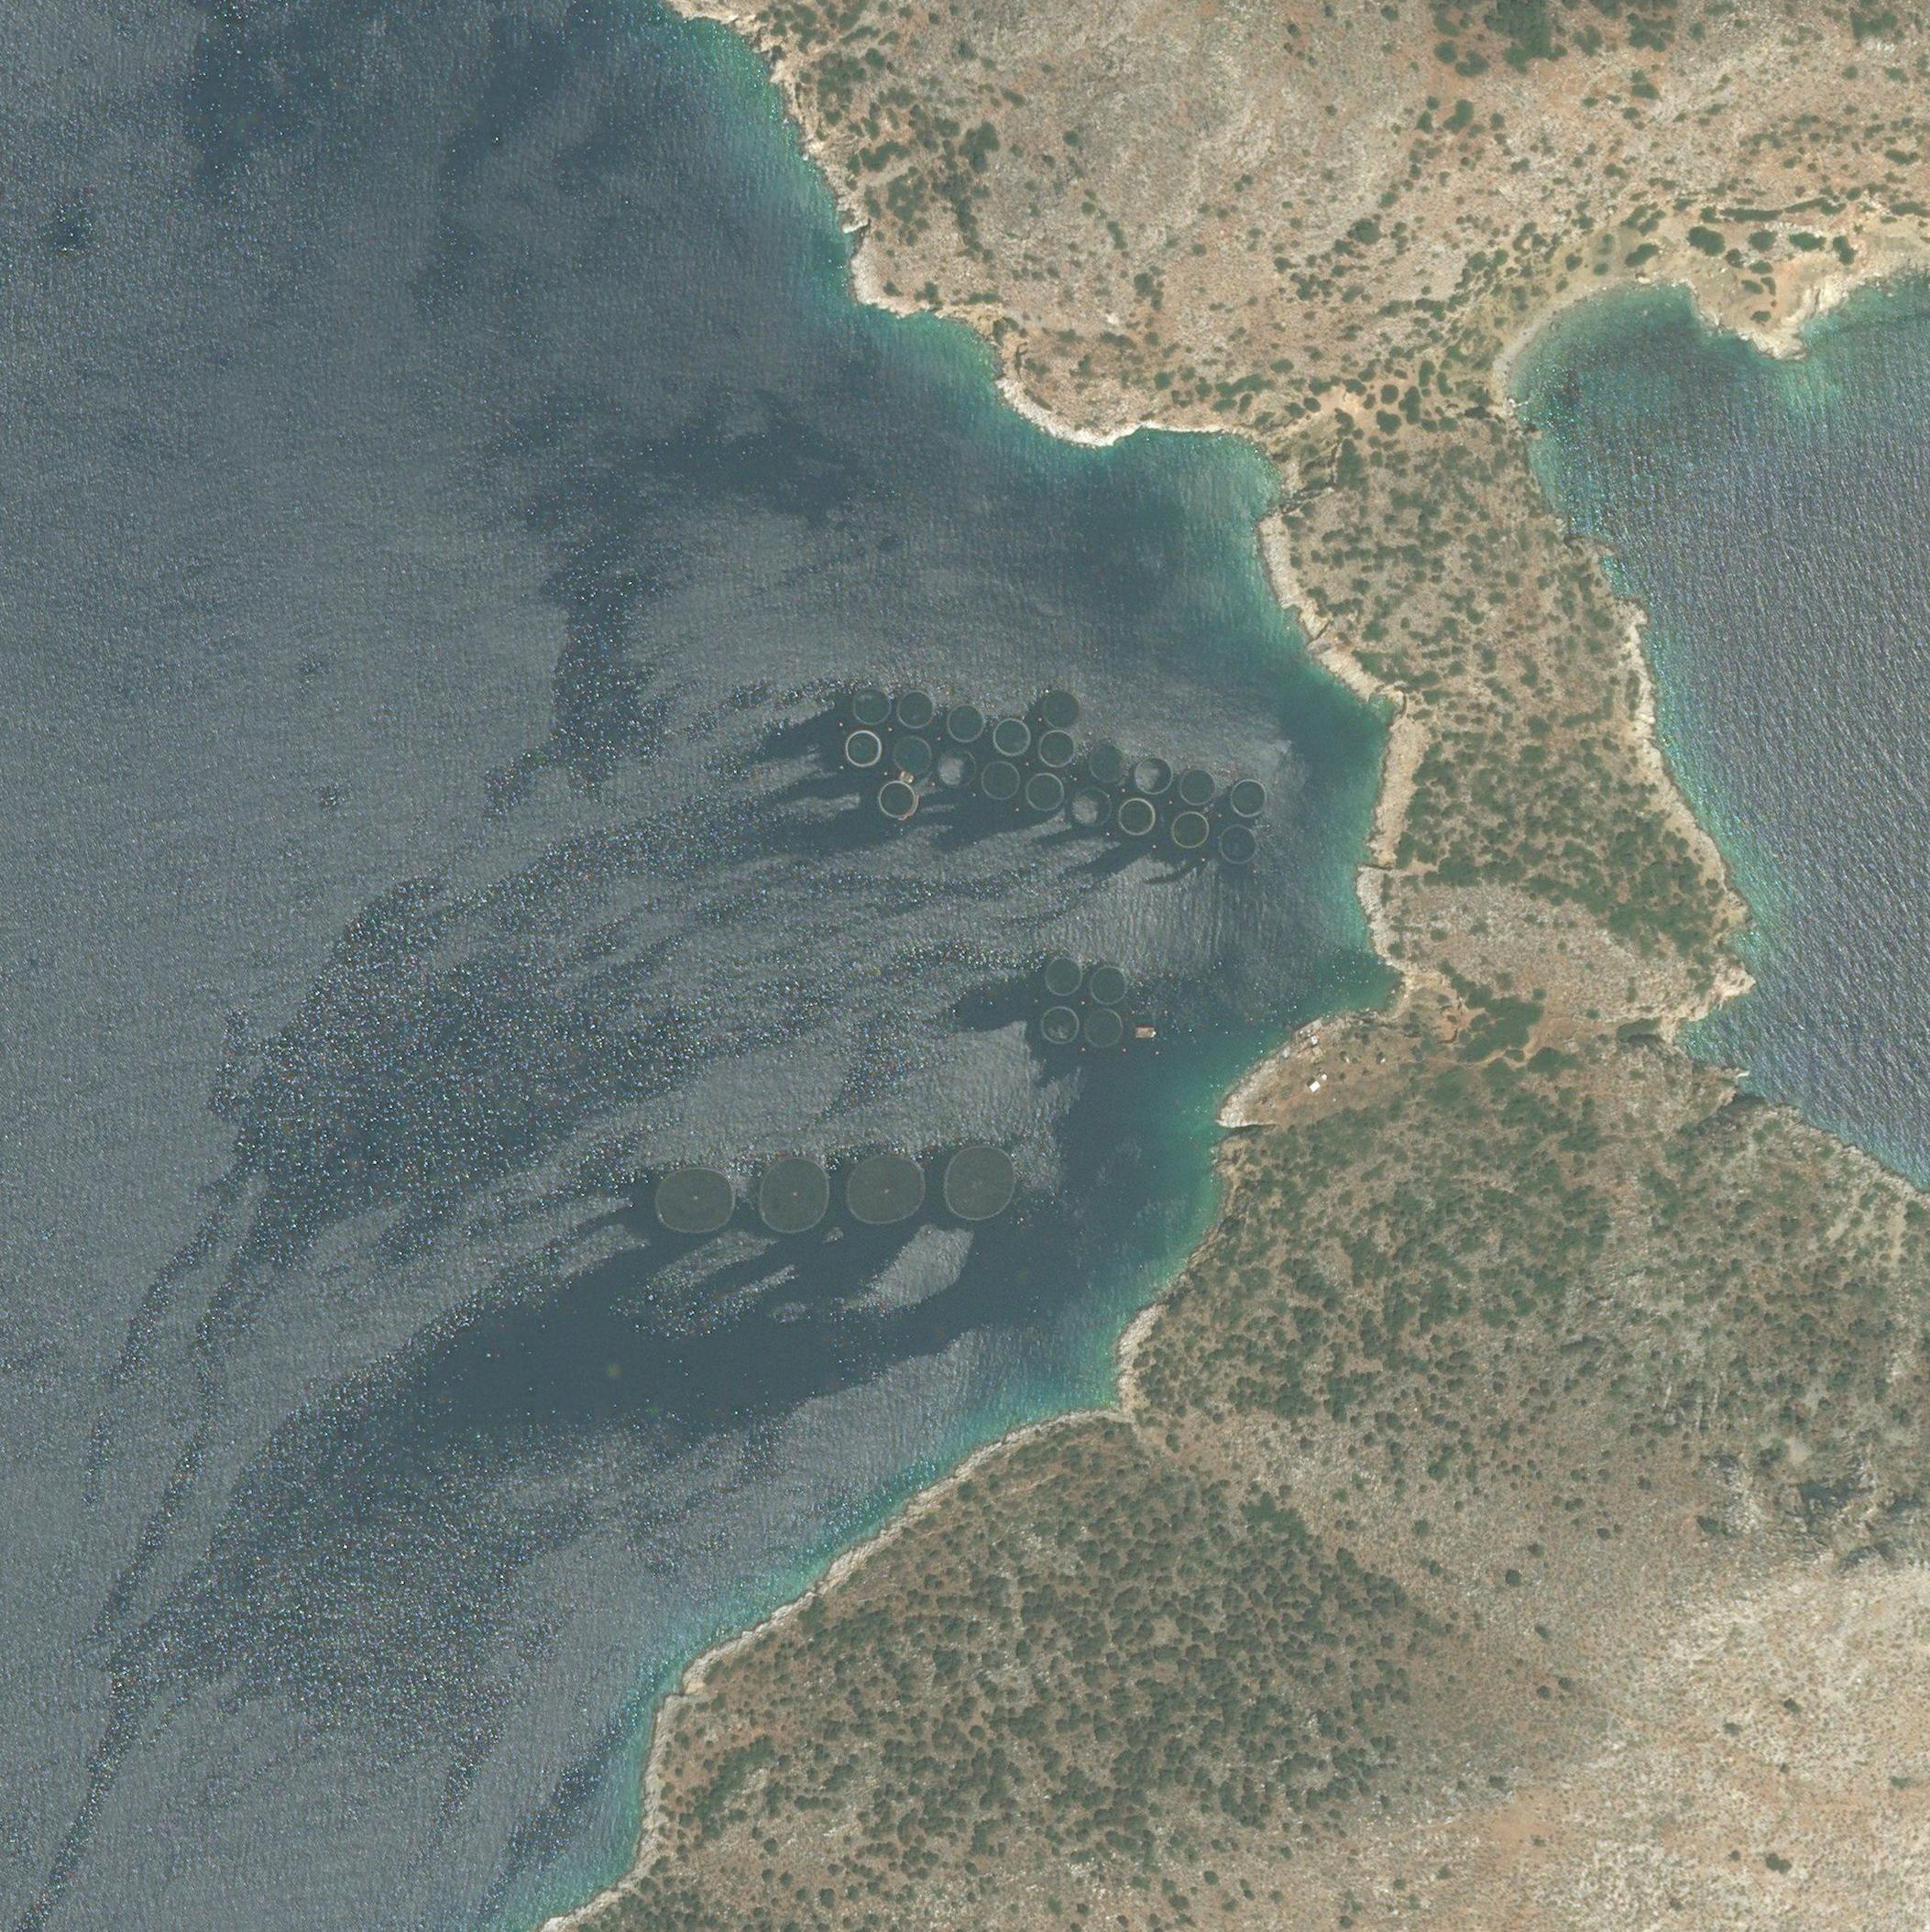c: (845, 1151, 926, 1227), (758, 1154, 829, 1237), (656, 1167, 741, 1234), (944, 1145, 1018, 1221), (877, 780, 921, 824), (1220, 824, 1264, 866), (1071, 787, 1113, 829), (935, 746, 977, 788), (1177, 765, 1220, 806), (1041, 688, 1082, 730), (992, 716, 1032, 758), (981, 758, 1022, 801), (894, 689, 937, 730), (1135, 755, 1175, 795), (1025, 772, 1066, 813), (1083, 1008, 1124, 1048), (1228, 780, 1271, 818), (1087, 744, 1129, 783), (850, 688, 893, 726), (893, 735, 931, 778), (1045, 956, 1083, 999), (1090, 963, 1129, 1006), (1041, 1004, 1080, 1046), (845, 728, 884, 769), (1172, 810, 1209, 850), (947, 702, 984, 742), (1117, 797, 1154, 836)
